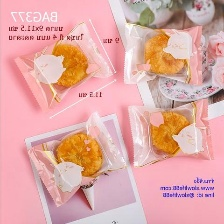snack: (23, 108, 131, 210), (9, 18, 116, 117), (124, 95, 218, 170), (119, 19, 207, 89)
